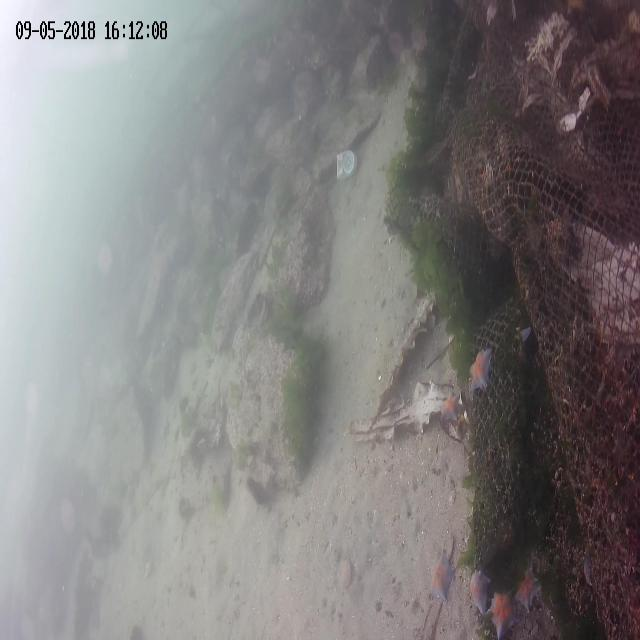scallop: (336, 558, 352, 592)
starfish: (487, 588, 517, 639), (514, 567, 542, 613), (431, 550, 455, 602), (506, 324, 534, 366), (468, 567, 490, 615), (467, 351, 491, 394), (549, 203, 573, 240), (491, 200, 513, 240), (438, 388, 459, 426), (496, 125, 512, 167), (580, 553, 594, 586)
